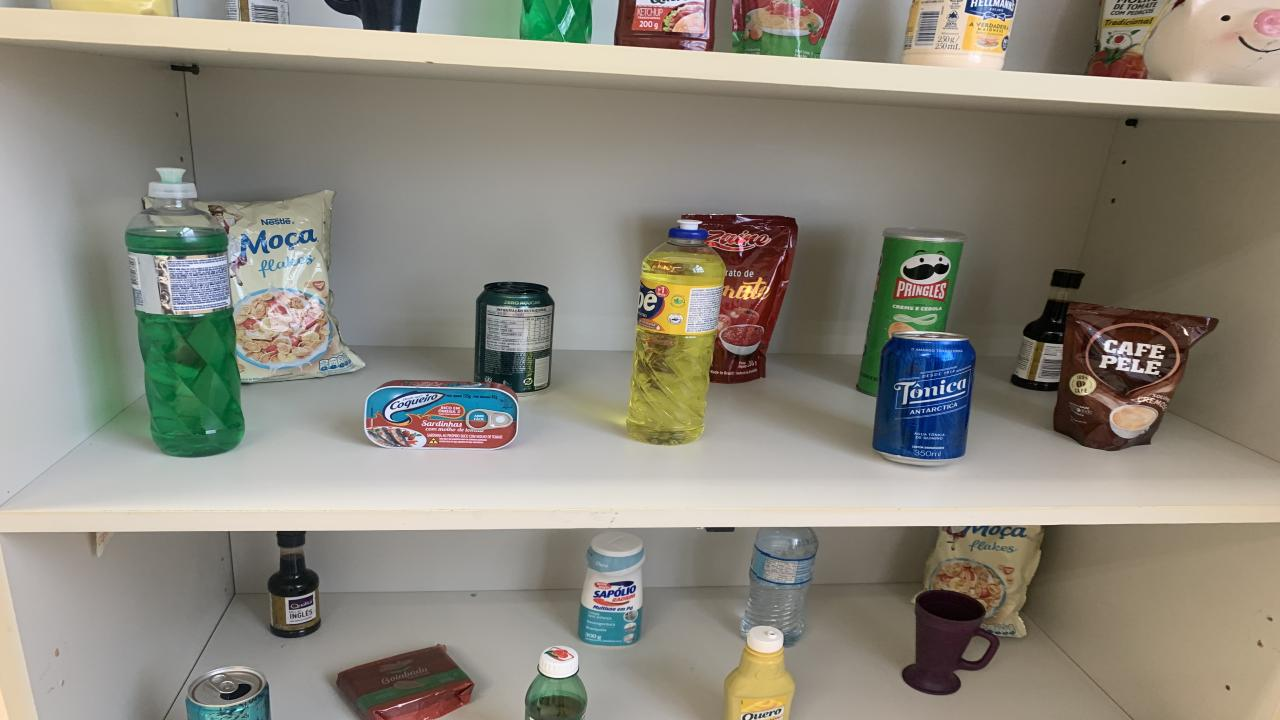Cleaner-Cleanup_Items: (578, 532, 645, 645)
Coffee-Pantry_Items: (1052, 302, 1218, 450)
Detergent-Cleanup_Items: (125, 169, 245, 458), (628, 219, 725, 444), (520, 0, 592, 43)
English_Sauce-Pantry_Items: (1010, 270, 1085, 390), (268, 532, 320, 638)
Flakes-Snacks: (200, 189, 365, 382), (922, 525, 1042, 638)
Guarana-Drinks: (525, 647, 588, 720)
Guarana_Can-Drinks: (475, 281, 555, 394)
Guava-Snacks: (338, 645, 472, 720)
Ketchup-Pantry_Items: (615, 0, 715, 51)
Mayonnaise-Pantry_Items: (902, 0, 1018, 69)
Mustard-Pantry_Items: (725, 624, 795, 720)
Pig_Safe-Miscellaneous: (1142, 0, 1280, 88)
Pringles-Snacks: (858, 227, 968, 396)
Tea-Drinks: (185, 666, 270, 720)
Tomato_Sauce-Pantry_Items: (688, 214, 798, 382), (1088, 0, 1175, 79), (732, 0, 838, 58)
Tonic-Drinks: (872, 332, 975, 465)
Tuna_Can-Pantry_Items: (365, 381, 518, 450)
Water_Bottle-Drinks: (740, 527, 818, 645)
